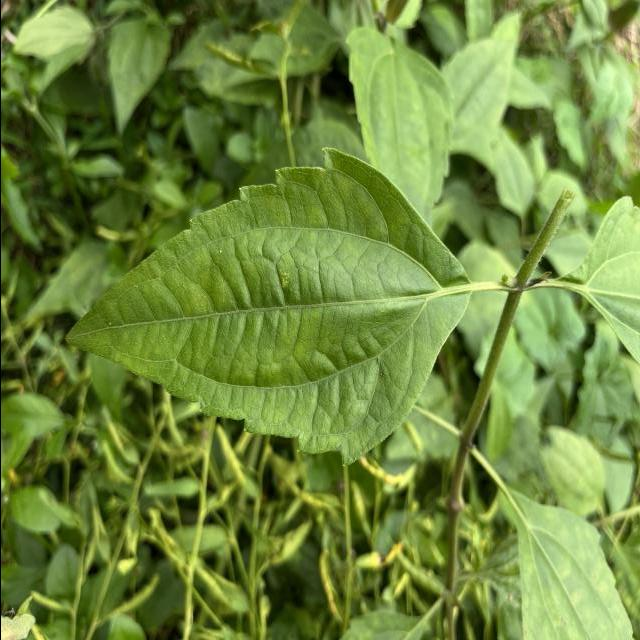Chromolaena odorata: (59, 142, 474, 472)
